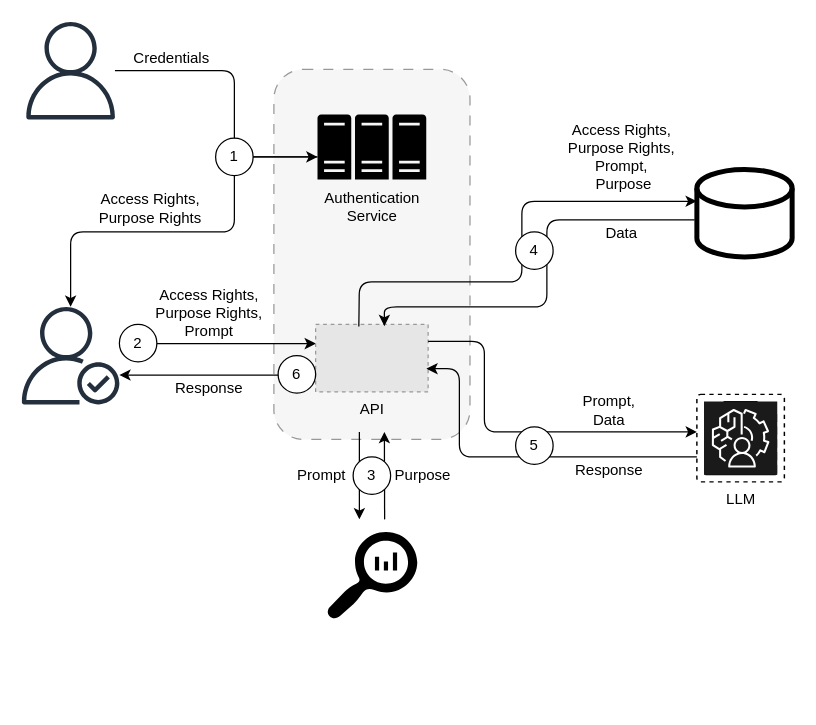
Image size: 816x725. Some labels were removed from this diagram. Grey dashed boxes stand in for pictures. Here are the shapes that lost their labels. From the top down, the centre of each, then its label:
(70,70): User
(744,212): DB
(70,355): Authenticated User
(371,575): Dynamic Purpose Classification
